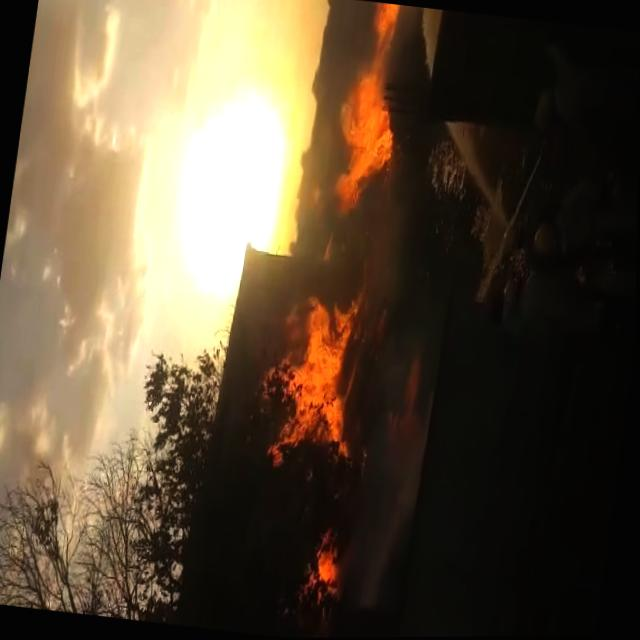helmet: (249, 286, 370, 477), (323, 0, 411, 223)
